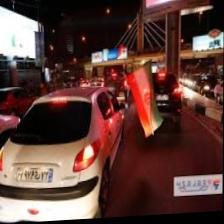plate: (17, 164, 53, 184)
